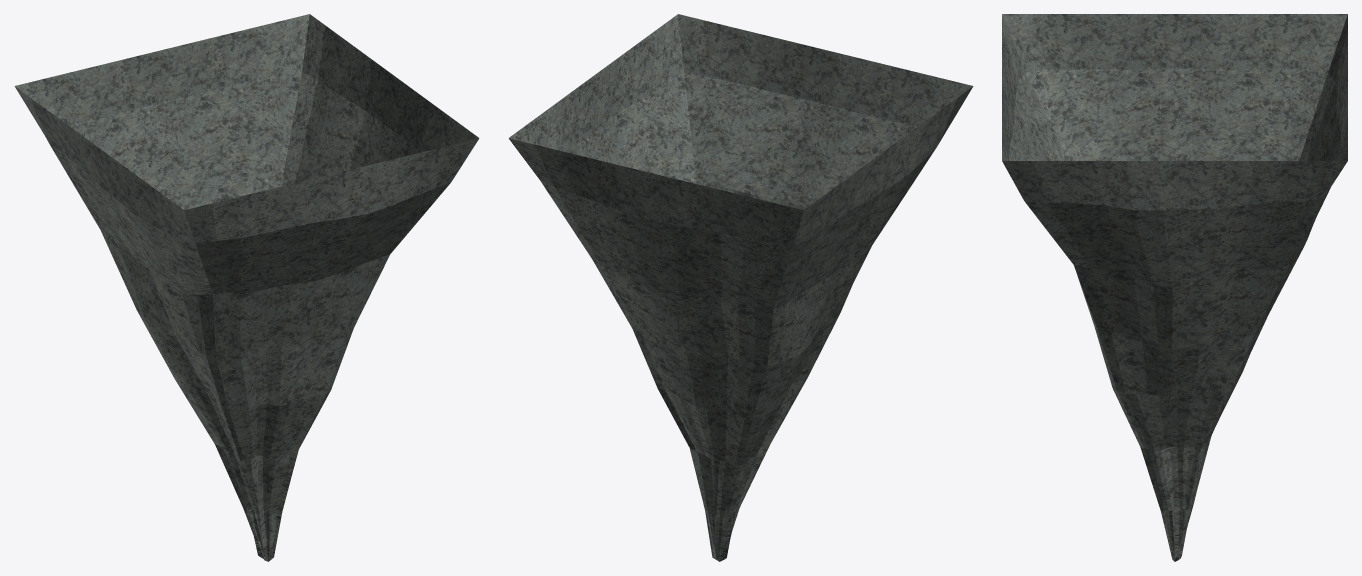
The model's file is arena_down.fbx.
3 views of the same model, side by side, from view 1: azimuth 30°, elevation 25°; view 2: azimuth 150°, elevation 25°; view 3: azimuth 270°, elevation 25° (orthographic).
Parts seen in each view (by area): view 1: Vert; view 2: Vert; view 3: Vert.
Part boxes in pixels (box(x1,y1,x2,y2)): Vert: box(14, 14, 479, 561); Vert: box(508, 14, 973, 561); Vert: box(1002, 14, 1347, 561).
Size of the model in its own units: 3895 by 5734 by 3876.
